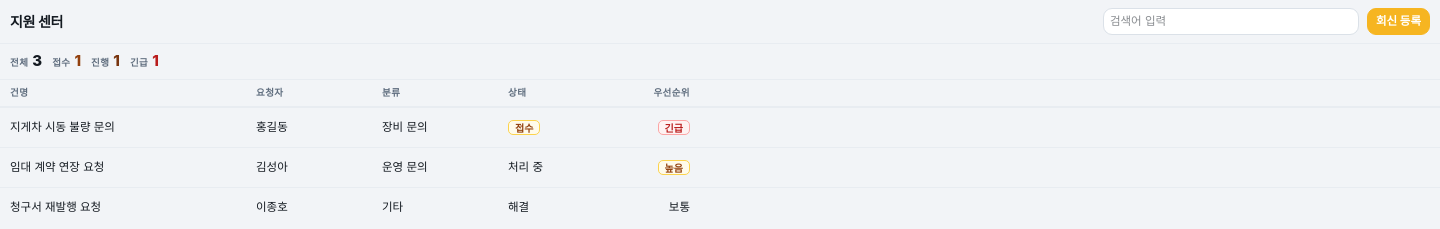
Test: ModuleScreen — list grammar › multi-attribute search narrows the list by title and requester
Expected: the text "지게차 시동 불량 문의" is shown, [10,119,115,136]
Expected: the text "임대 계약 연장 요청" is shown, [10,159,104,176]
Type "계약" into the search field labelled "검색". click: (1231,22)
box: [1103,8,1359,35]
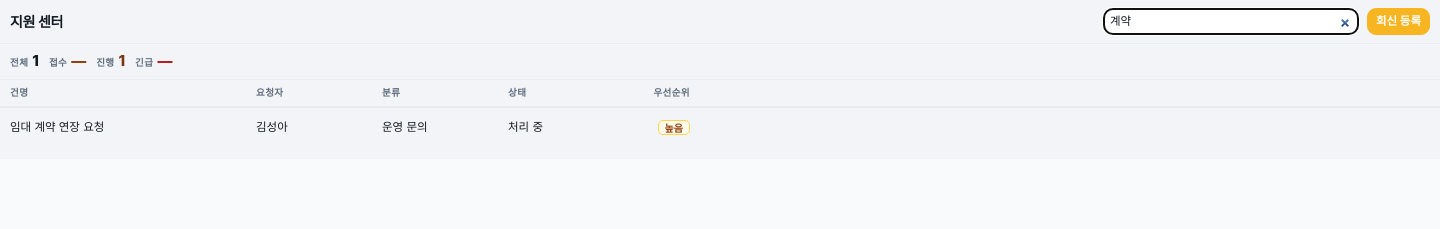
Expected: the text "임대 계약 연장 요청" is shown, [10,119,104,136]
Now the text "지게차 시동 불량 문의" is gone
